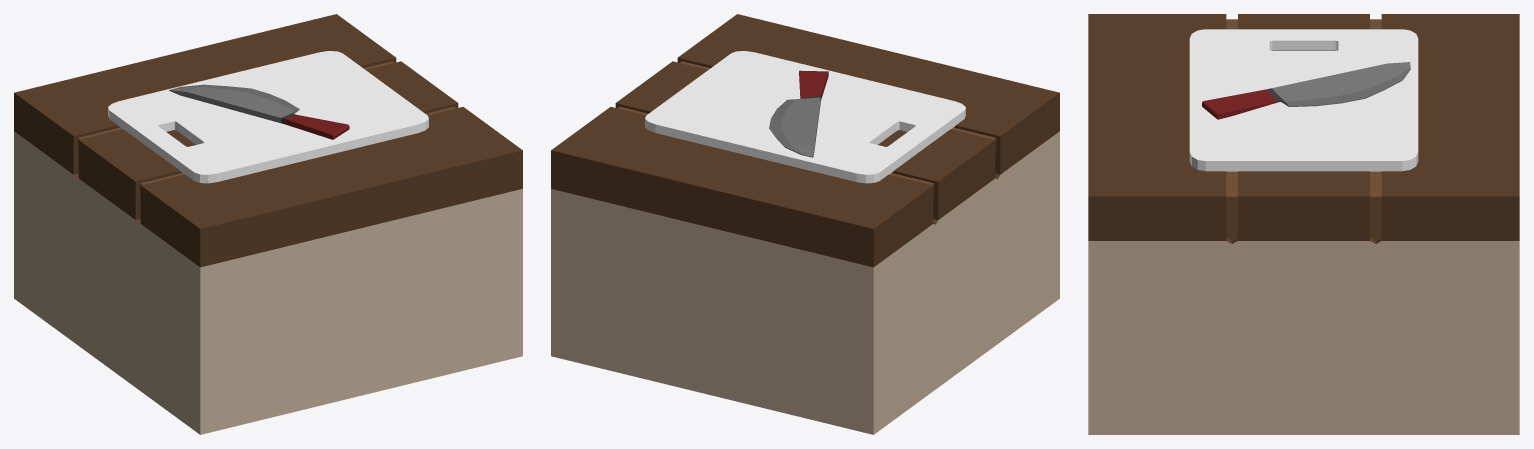
The model's file is ChoppingTable.fbx.
3 renders of one model, left to right at view 1: azimuth 30°, elevation 25°; view 2: azimuth 150°, elevation 25°; view 3: azimuth 270°, elevation 25°, orthographic. The views are drawn at different scales.
Visible parts, largest first — view 1: ChoppingTable, ChoppingBoard; view 2: ChoppingTable, ChoppingBoard; view 3: ChoppingTable, ChoppingBoard.
Part boxes in pixels (box(x1,y1,x2,y2)): ChoppingTable: box(14, 14, 522, 434); ChoppingBoard: box(108, 51, 428, 183); ChoppingTable: box(551, 14, 1059, 434); ChoppingBoard: box(645, 51, 965, 183); ChoppingTable: box(1088, 14, 1519, 434); ChoppingBoard: box(1189, 29, 1418, 171).
Bounding box in the file's own units: 89.71 × 58.46 × 89.71.
